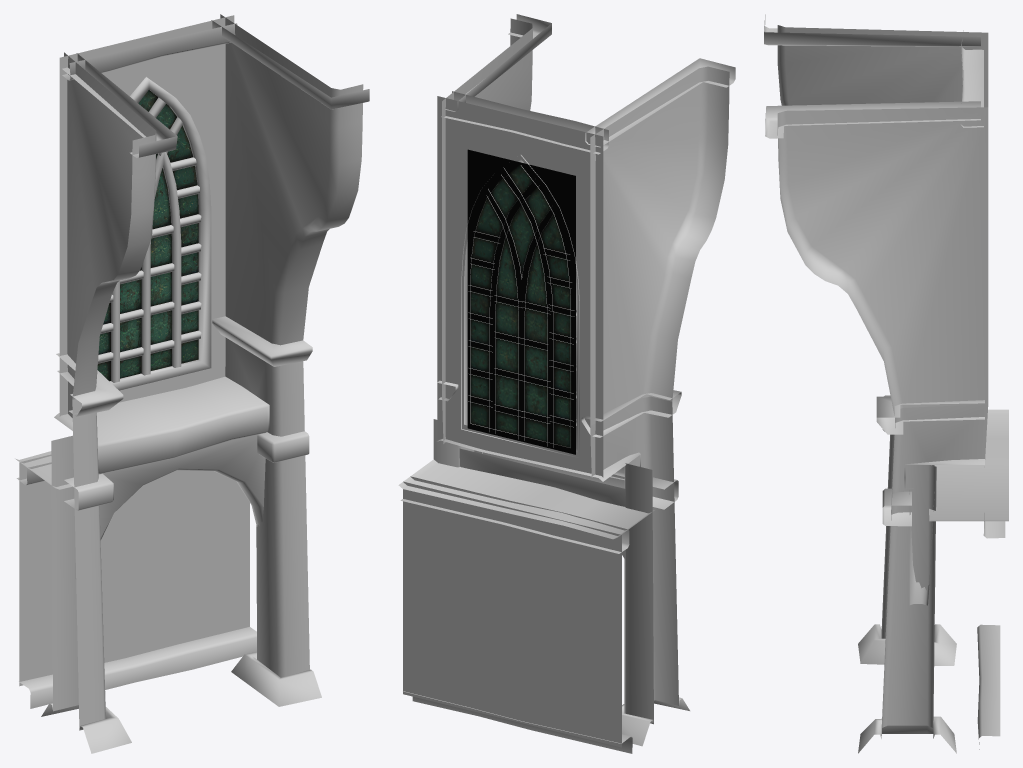
File: church_window_green.dae
3 views of the same model, side by side, from view 1: azimuth 30°, elevation 25°; view 2: azimuth 150°, elevation 25°; view 3: azimuth 270°, elevation 25° (orthographic). The views are drawn at different scales.
Visible parts, largest first — view 1: polySurface140, church_window_glass5; view 2: polySurface140, church_window_glass5; view 3: polySurface140.
Part boxes in pixels (x1=…): polySurface140: x1=15, y1=14, x2=369, y2=753; church_window_glass5: x1=97, y1=90, x2=198, y2=381; polySurface140: x1=398, y1=14, x2=735, y2=753; church_window_glass5: x1=467, y1=149, x2=575, y2=454; polySurface140: x1=764, y1=14, x2=1008, y2=753.
Size of the model in its own units: 4.5 by 12 by 4.23.
